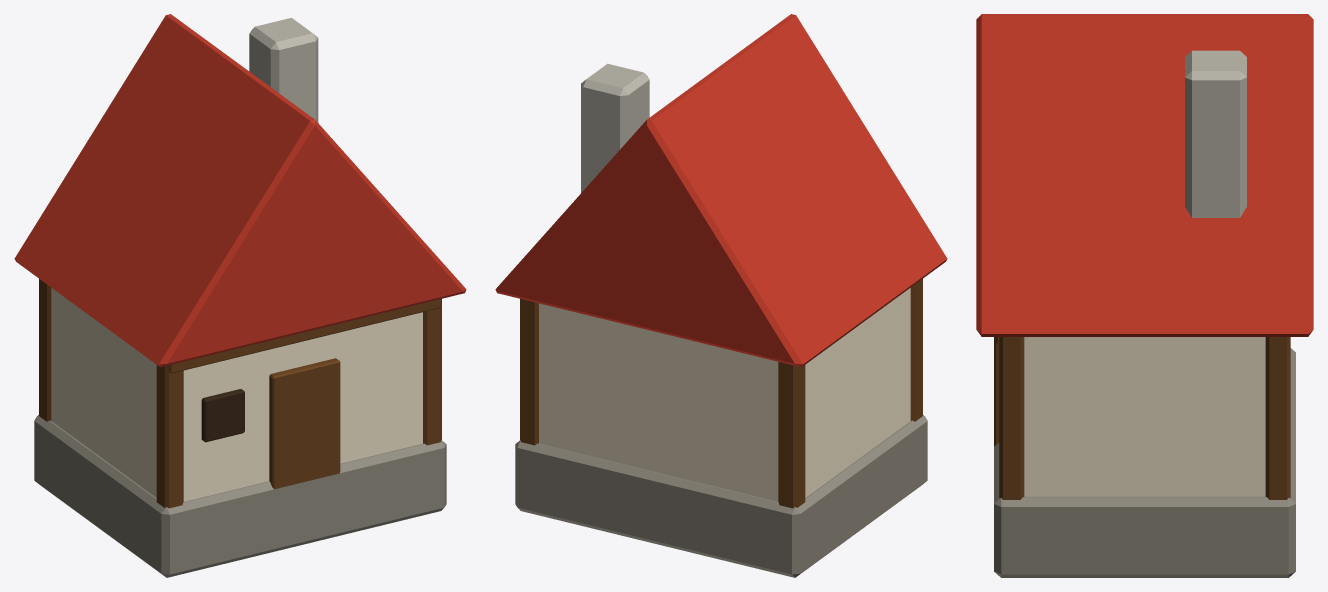
Rendered from sns_house.glb.
3 views of the same model, side by side, from view 1: azimuth 30°, elevation 25°; view 2: azimuth 150°, elevation 25°; view 3: azimuth 270°, elevation 25° (orthographic). The views are drawn at different scales.
Parts seen in each view (by area): view 1: sns_house; view 2: sns_house; view 3: sns_house.
Boxes of the visible parts, x1,y1,x2,y2 form: sns_house: (14, 14, 466, 577); sns_house: (495, 14, 947, 577); sns_house: (976, 14, 1313, 577).
Size of the model in its own units: 2.26 by 3.03 by 1.9.
